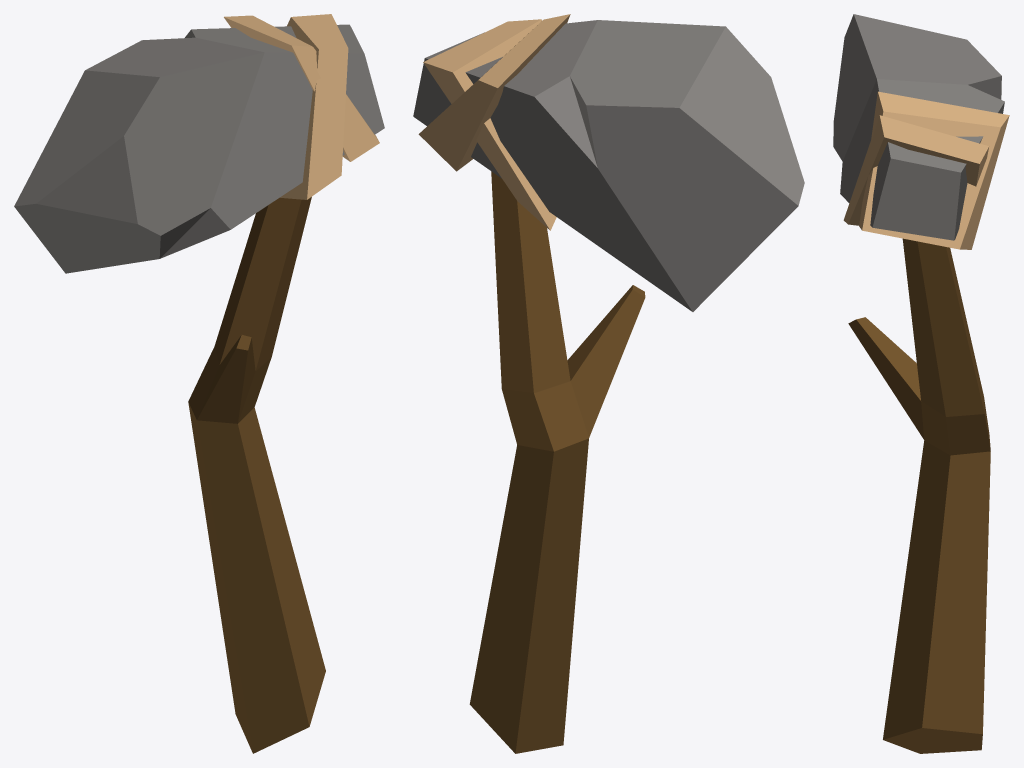
The model's file is Stone_Axe__0.glb.
3 views of the same model, side by side, from view 1: azimuth 30°, elevation 25°; view 2: azimuth 150°, elevation 25°; view 3: azimuth 270°, elevation 25° (orthographic). The views are drawn at different scales.
Visible parts, largest first — view 1: Stone_Axe__0; view 2: Stone_Axe__0; view 3: Stone_Axe__0.
Part boxes in pixels (x1=…): Stone_Axe__0: x1=14, y1=14, x2=384, y2=753; Stone_Axe__0: x1=413, y1=14, x2=804, y2=753; Stone_Axe__0: x1=833, y1=14, x2=1009, y2=753.
Bounding box in the file's own units: 0.2706 × 0.5092 × 0.1194.
1 material, 1 textured.
